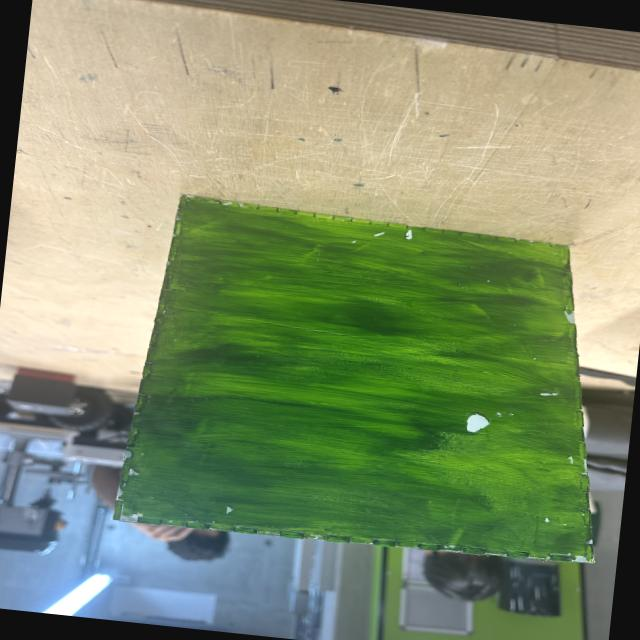green_bin: (109, 187, 630, 574)
